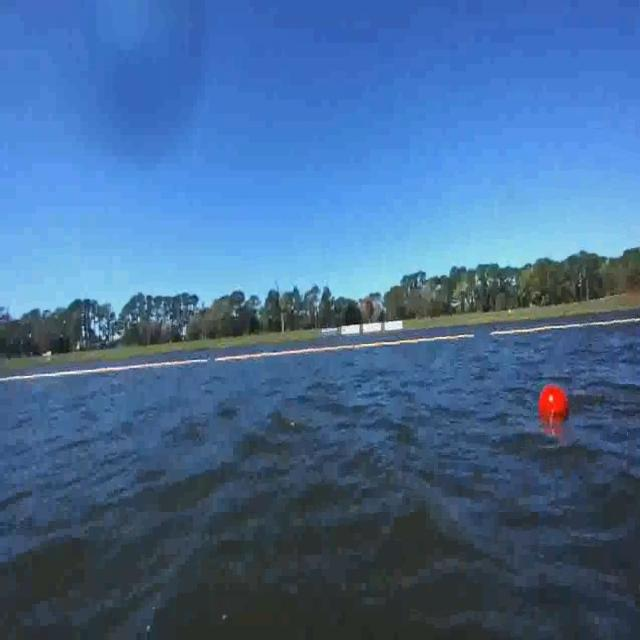red-buoy: (538, 387, 568, 424)
